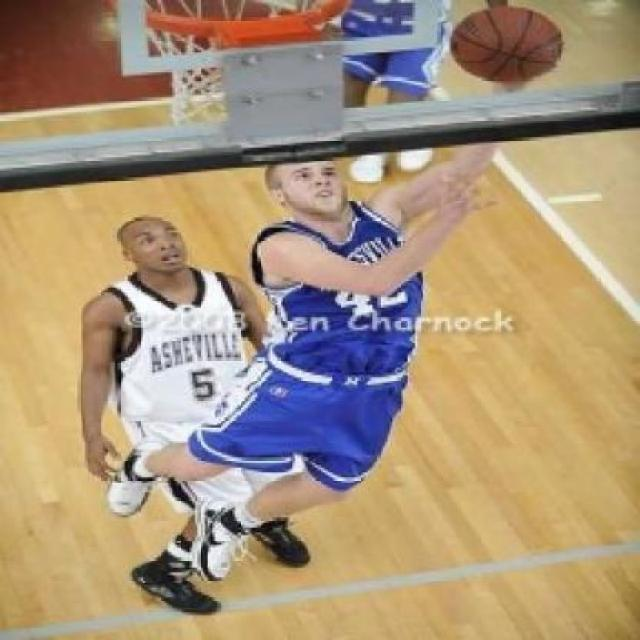basketball: (447, 0, 569, 86)
